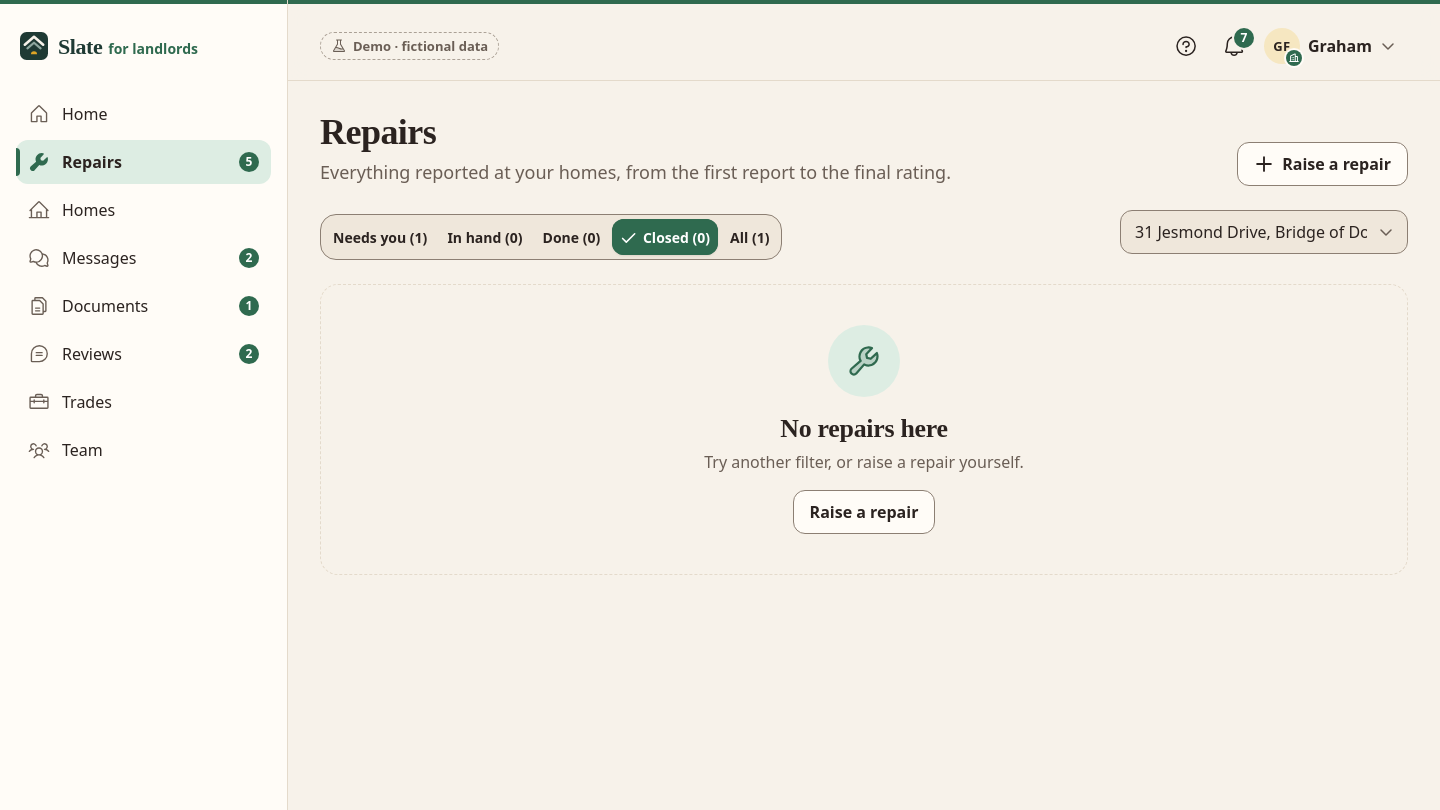
the repairs list › points to the next step when nothing matches
Expected: the heading "No repairs here" is shown, x1=780 y1=414 x2=948 y2=444
Click the button "Raise a repair" below "No repairs here". click: coordinates (864, 512)
box: x1=793 y1=490 x2=935 y2=534
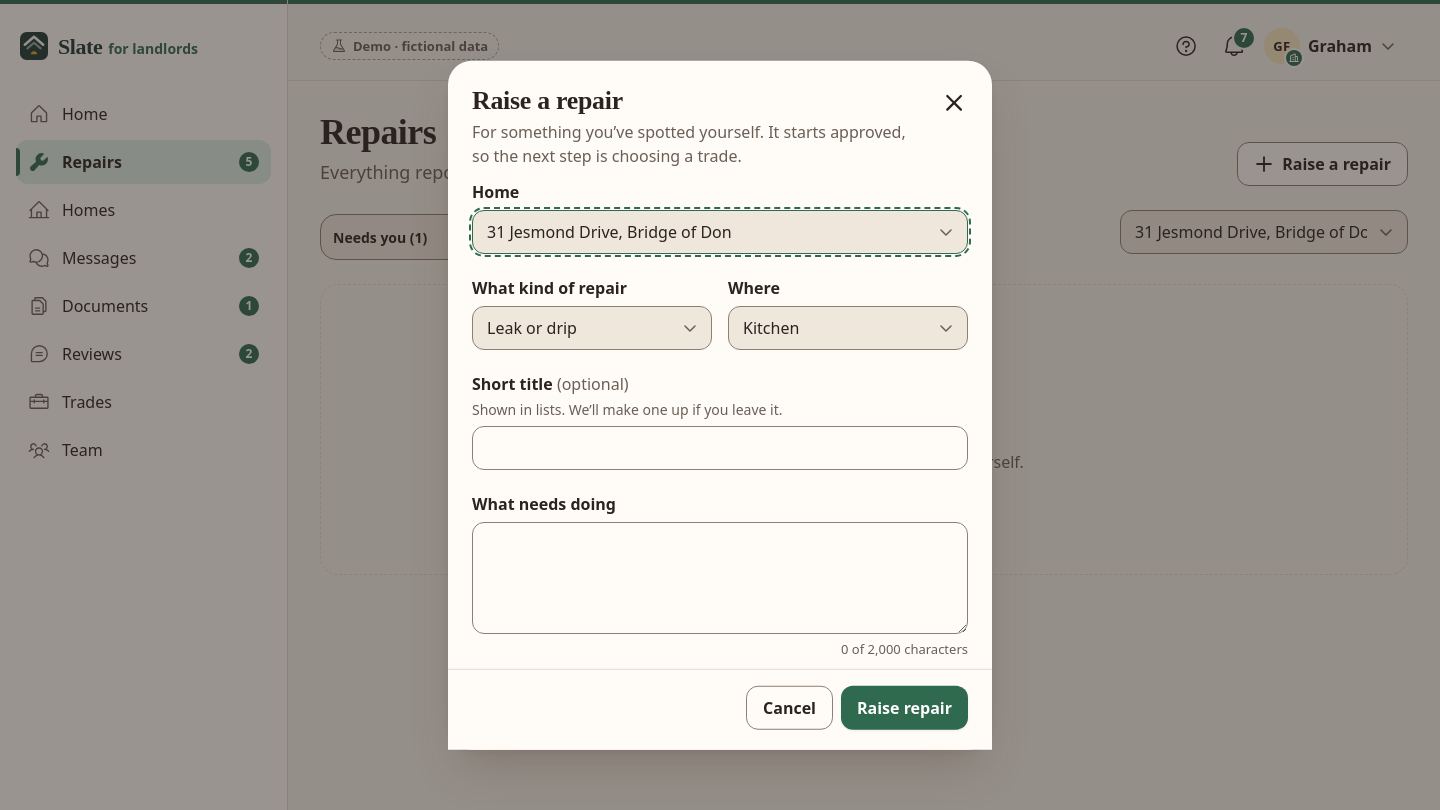
Now the dialog "Raise a repair" is shown, box x1=448 y1=61 x2=992 y2=749
